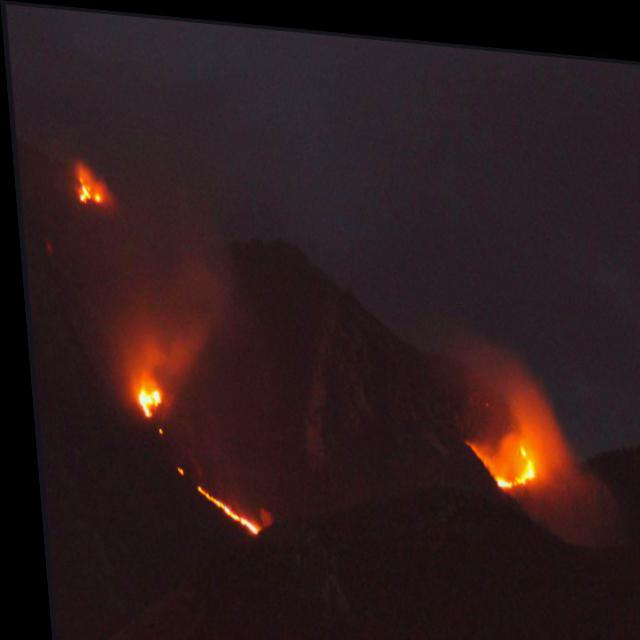Fire: (170, 462, 256, 533), (472, 429, 527, 482), (70, 168, 100, 202), (130, 382, 158, 412)
